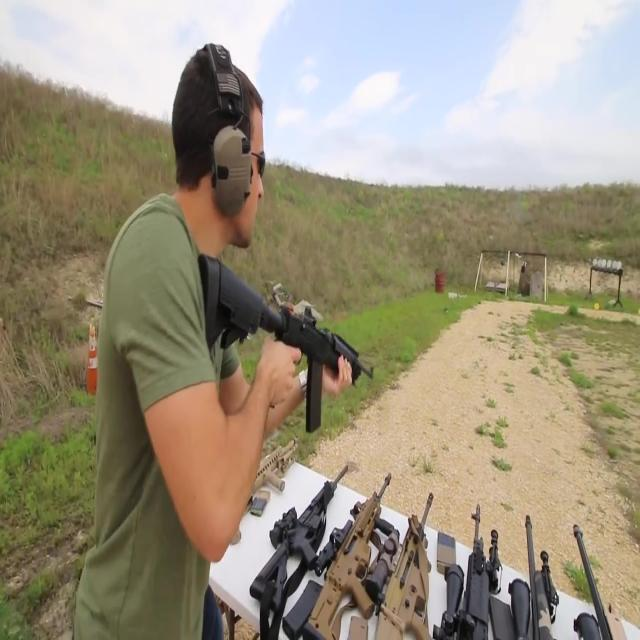Weapon: (213, 415, 640, 640), (182, 191, 418, 454)
